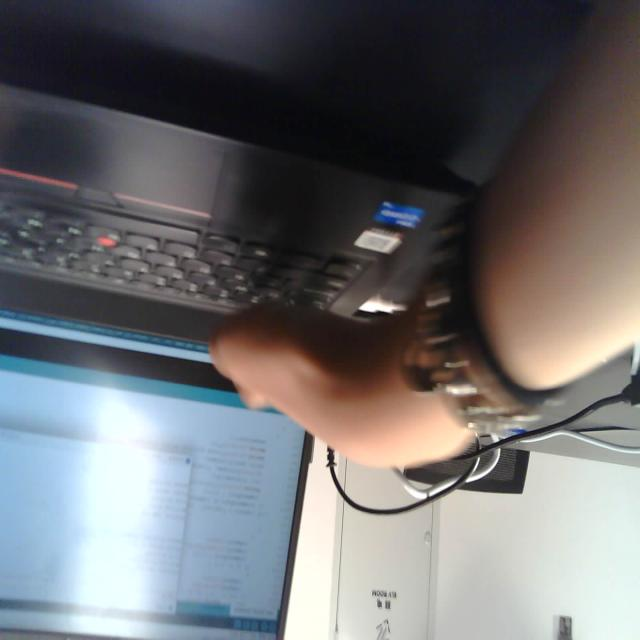keyboard-with-hands: (0, 72, 476, 350)
